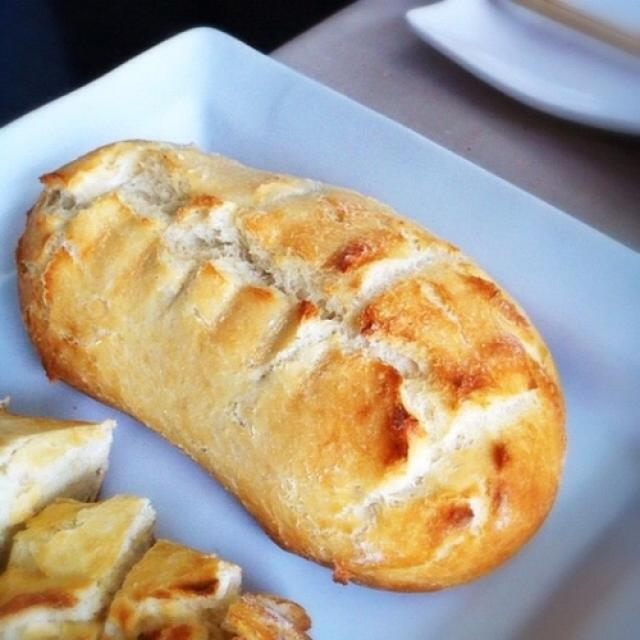Bread: (21, 128, 573, 598)
